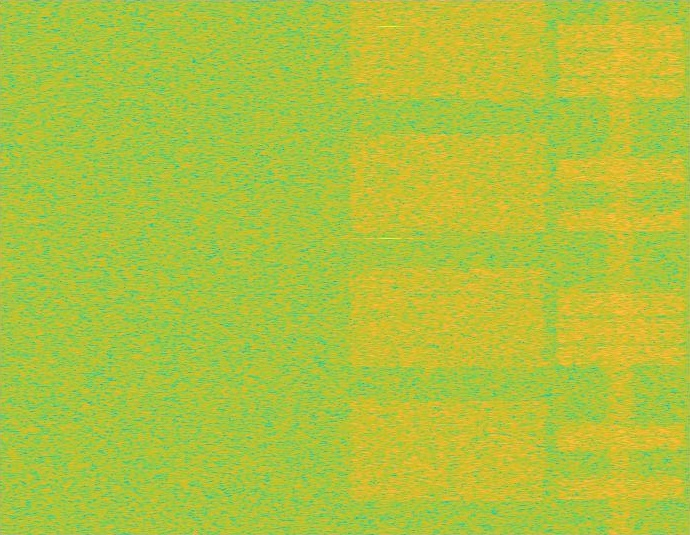5G: (345, 0, 552, 534)
DSSS: (605, 0, 637, 534)
LTE: (552, 0, 689, 534)
Radar: (383, 0, 396, 534)
